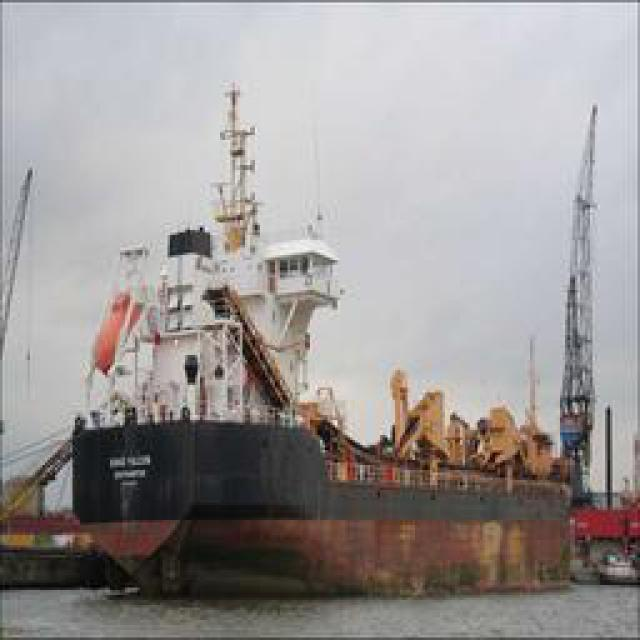Ship: (76, 66, 336, 456)
